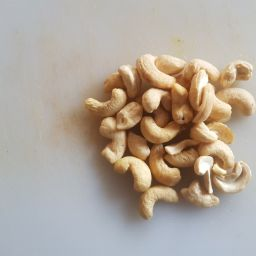Cashew: (110, 74, 236, 183)
